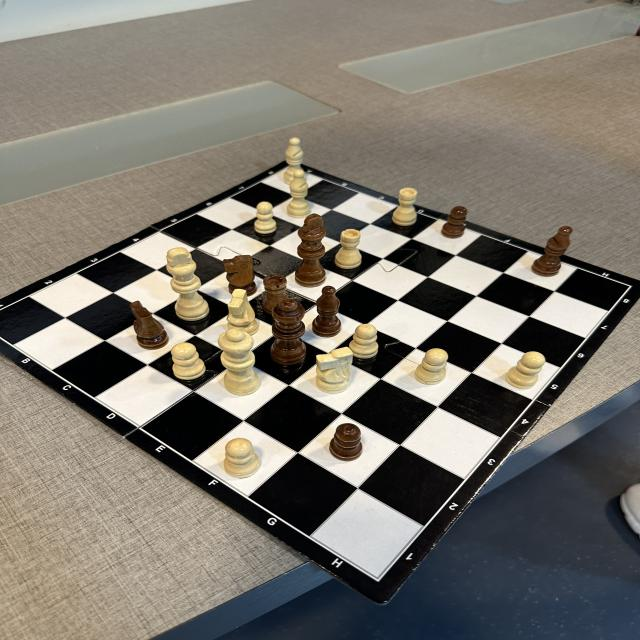Black-Bishop: (531, 226, 572, 276), (312, 286, 342, 338)
Black-King: (294, 214, 326, 288)
Black-Knight: (129, 300, 169, 350), (222, 255, 257, 296)
Black-Pawn: (330, 424, 362, 461), (441, 206, 468, 238)
Black-Queen: (270, 298, 306, 364)
Black-Rook: (263, 274, 289, 316), (335, 228, 362, 268), (392, 188, 417, 226)
White-Bishop: (286, 170, 310, 219), (284, 137, 305, 185)
White-King: (166, 246, 209, 321)
White-Knight: (315, 347, 353, 393), (228, 289, 258, 336)
White-Pawn: (506, 351, 546, 389), (224, 437, 260, 478), (171, 342, 206, 380), (414, 349, 448, 385), (349, 324, 378, 358), (254, 202, 276, 234)
White-Queen: (218, 329, 261, 395)
